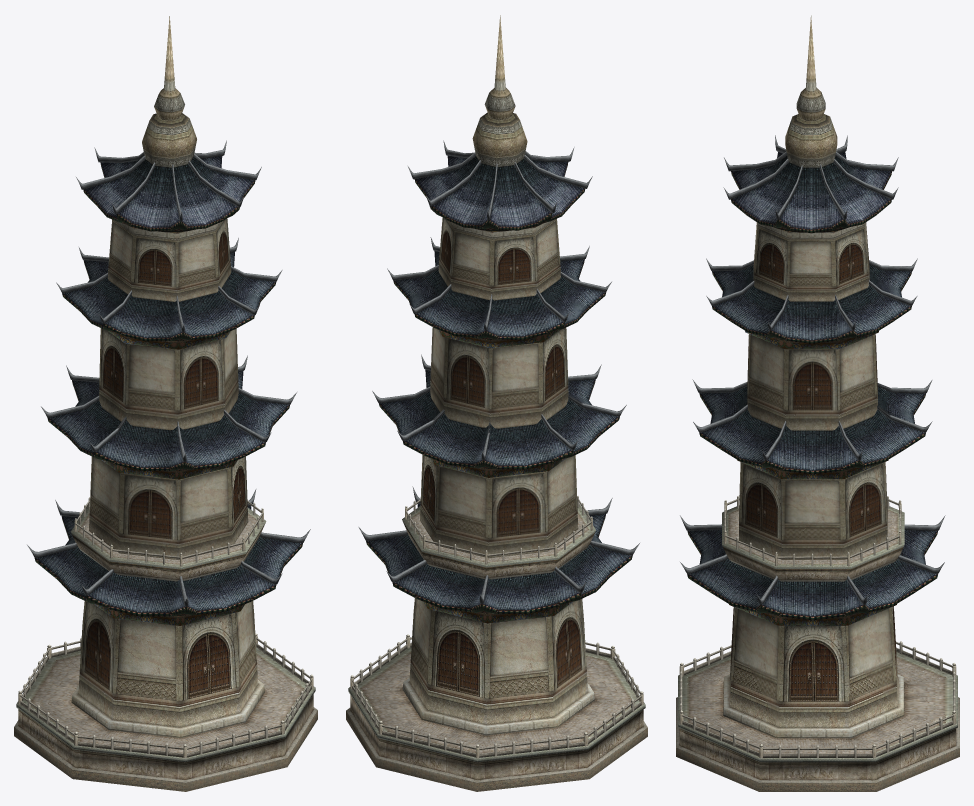
Rendered from ob-tower01.fbx.
3 renders of one model, left to right at view 1: azimuth 30°, elevation 25°; view 2: azimuth 150°, elevation 25°; view 3: azimuth 270°, elevation 25°, orthographic.
Visible parts, largest first — view 1: ob-013-tower01_02, ob-013-tower01_03, ob-013-tower01_01; view 2: ob-013-tower01_02, ob-013-tower01_03, ob-013-tower01_01; view 3: ob-013-tower01_02, ob-013-tower01_03, ob-013-tower01_01.
Boxes of the visible parts, x1,y1,x2,y2 form: ob-013-tower01_02: [27, 113, 310, 738]; ob-013-tower01_03: [34, 16, 302, 625]; ob-013-tower01_01: [14, 497, 317, 791]; ob-013-tower01_02: [358, 112, 639, 735]; ob-013-tower01_03: [366, 15, 632, 623]; ob-013-tower01_01: [346, 495, 647, 791]; ob-013-tower01_02: [680, 114, 945, 738]; ob-013-tower01_03: [687, 15, 937, 625]; ob-013-tower01_01: [676, 496, 959, 791].
Bounding box in the file's own units: 17.02 × 47.5 × 17.02.
